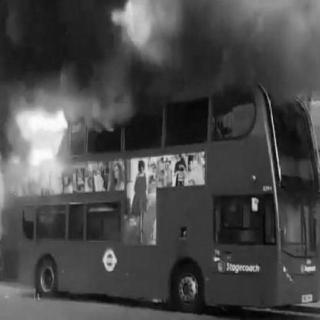Smoke: (10, 7, 314, 95)
